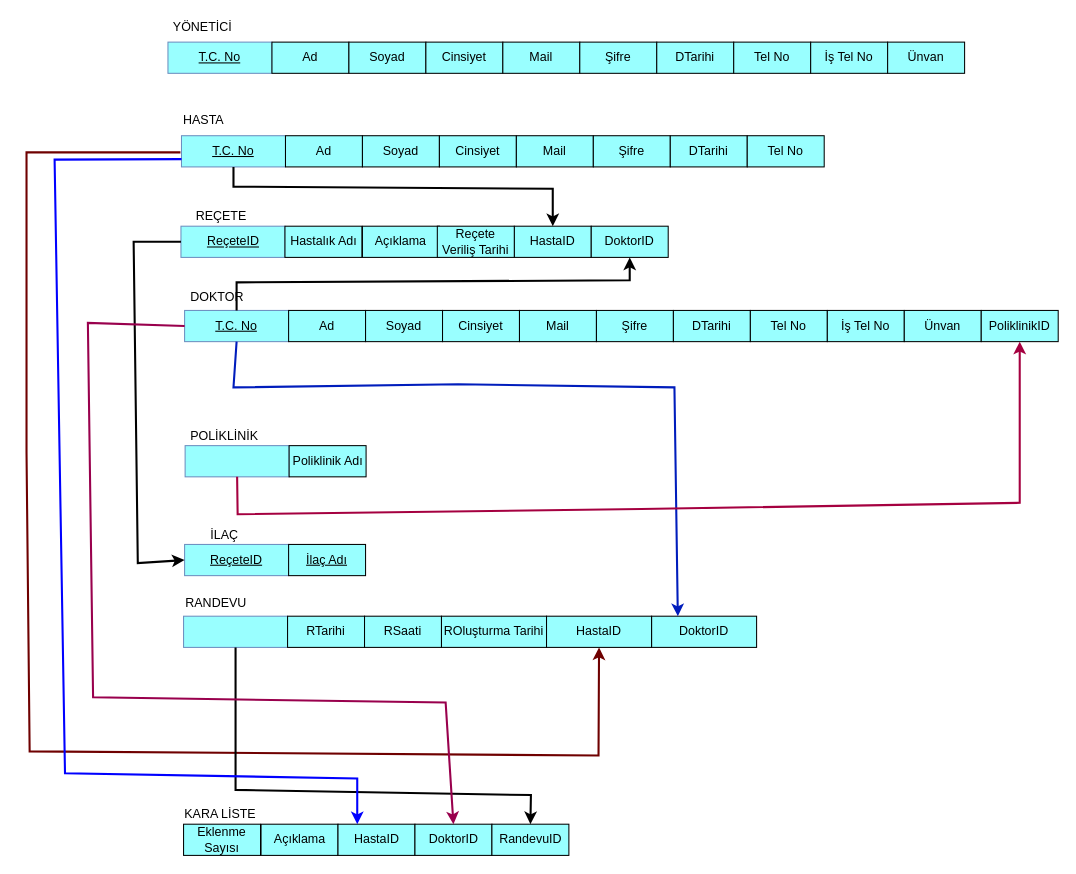
Image size: 1076x874. Some labels were removed from this diagram. Here are the shapes that lost their labels. From the top down, the centre of each, then its label:
the point at 236,461: PID
the point at 235,631: RID
